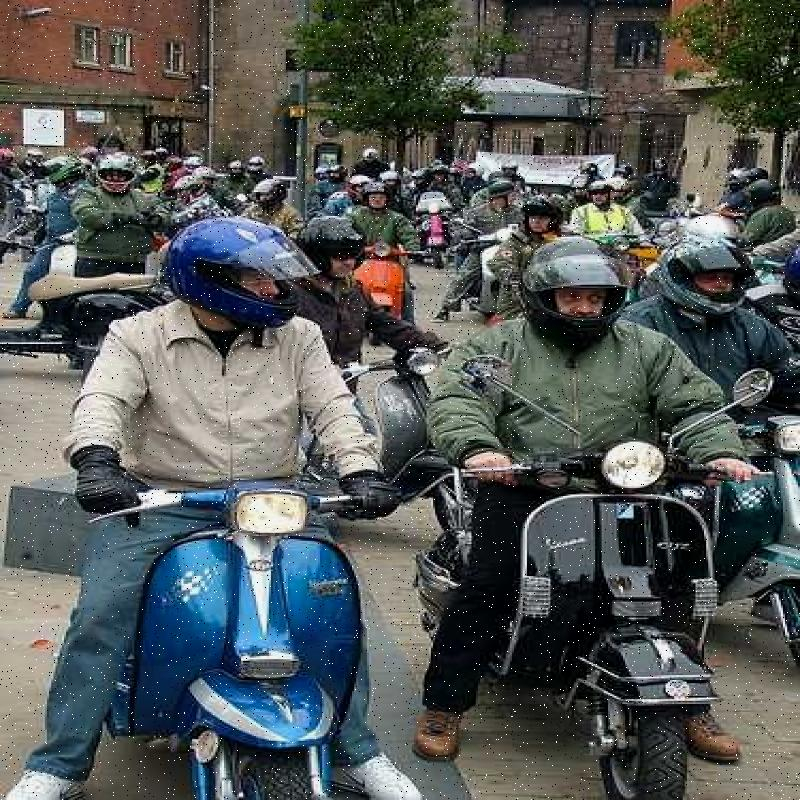bike: (481, 381, 800, 800), (162, 459, 418, 800)
